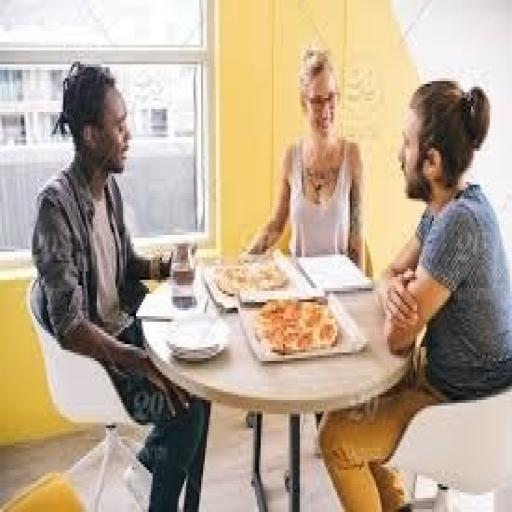eating: (26, 42, 510, 506), (28, 56, 212, 509)
